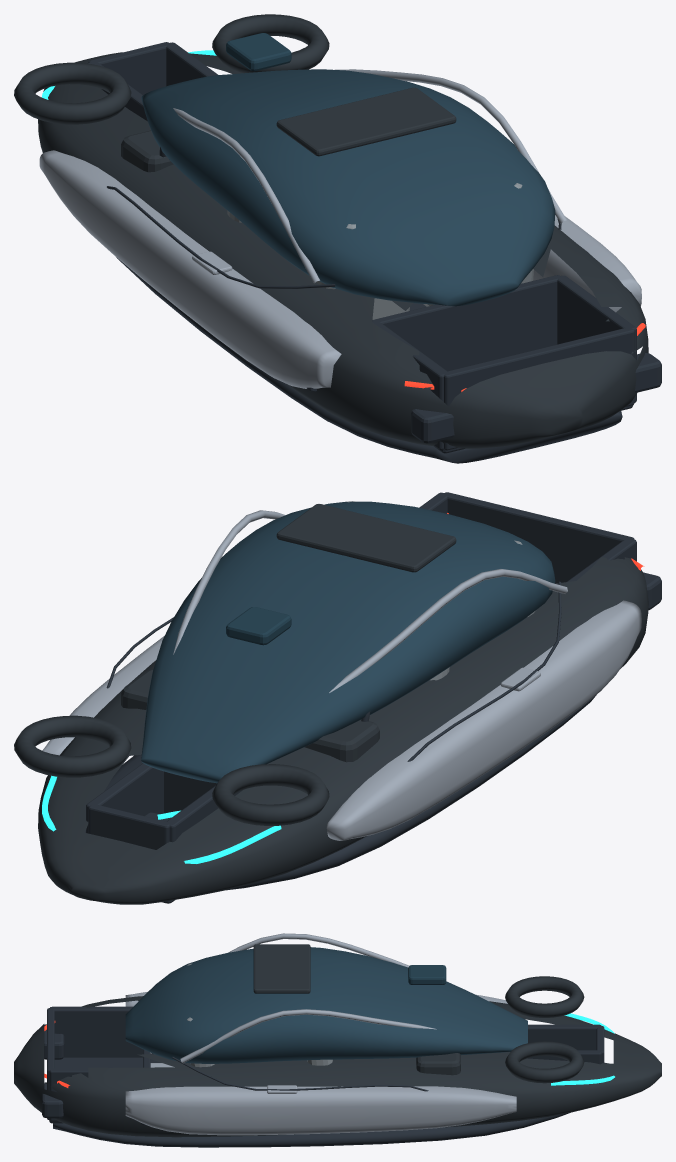
The model's file is aurora_x9_body.gltf.
3 views of the same model, one above another, from view 1: azimuth 30°, elevation 25°; view 2: azimuth 150°, elevation 25°; view 3: azimuth 270°, elevation 25° (orthographic). The views are drawn at different scales.
Parts seen in each view (by area): view 1: aurora_x9_body; view 2: aurora_x9_body; view 3: aurora_x9_body.
Part boxes in pixels (<box>): aurora_x9_body: <box>14,14,661,463</box>; aurora_x9_body: <box>14,492,661,904</box>; aurora_x9_body: <box>14,933,661,1147</box>.
Bounding box in the file's own units: 2.38 × 1.39 × 5.8.
